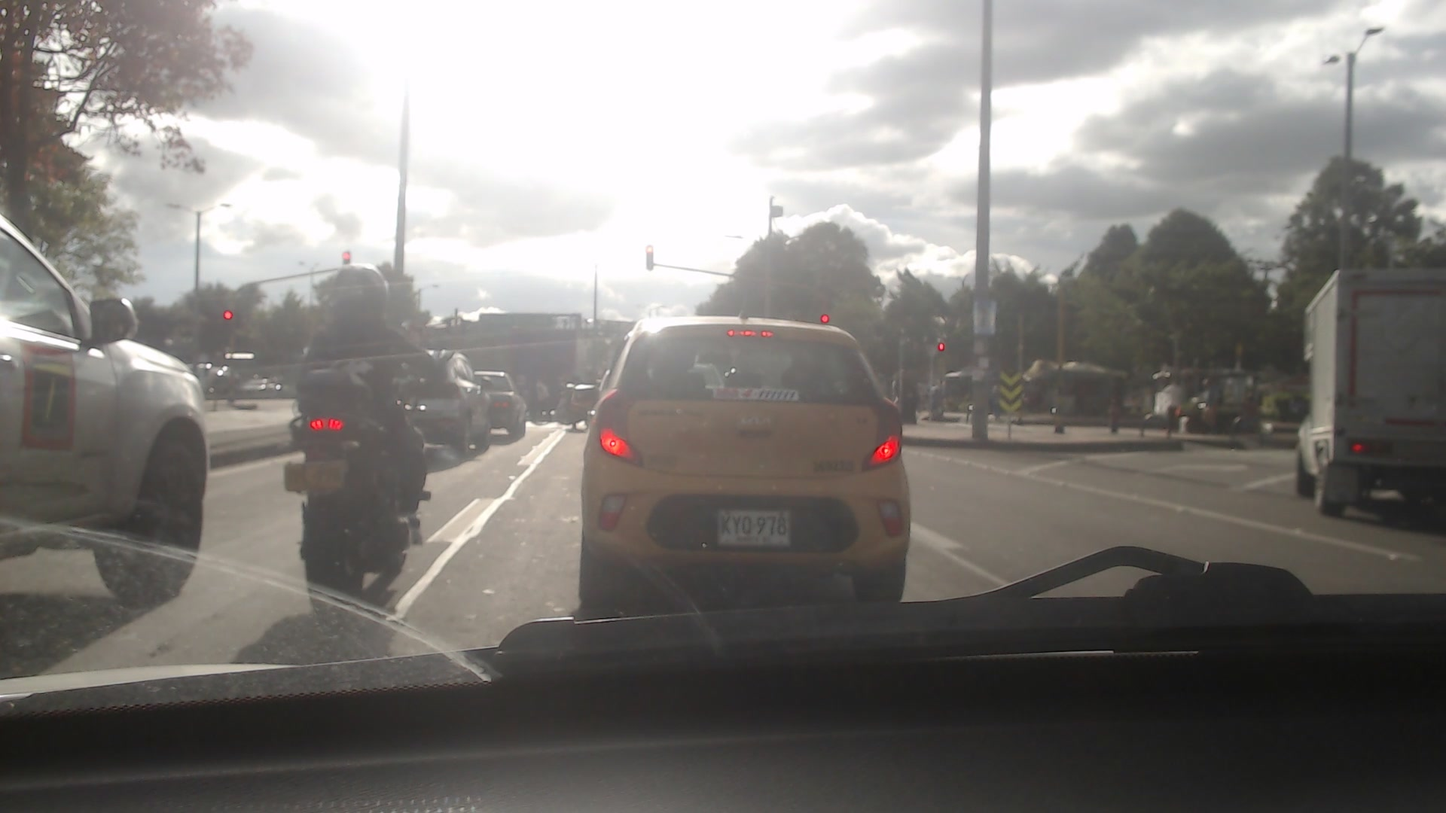car: (582, 311, 907, 609), (0, 218, 211, 627), (405, 347, 493, 438)
motorcycle: (288, 401, 422, 630)
person: (295, 256, 425, 524)
